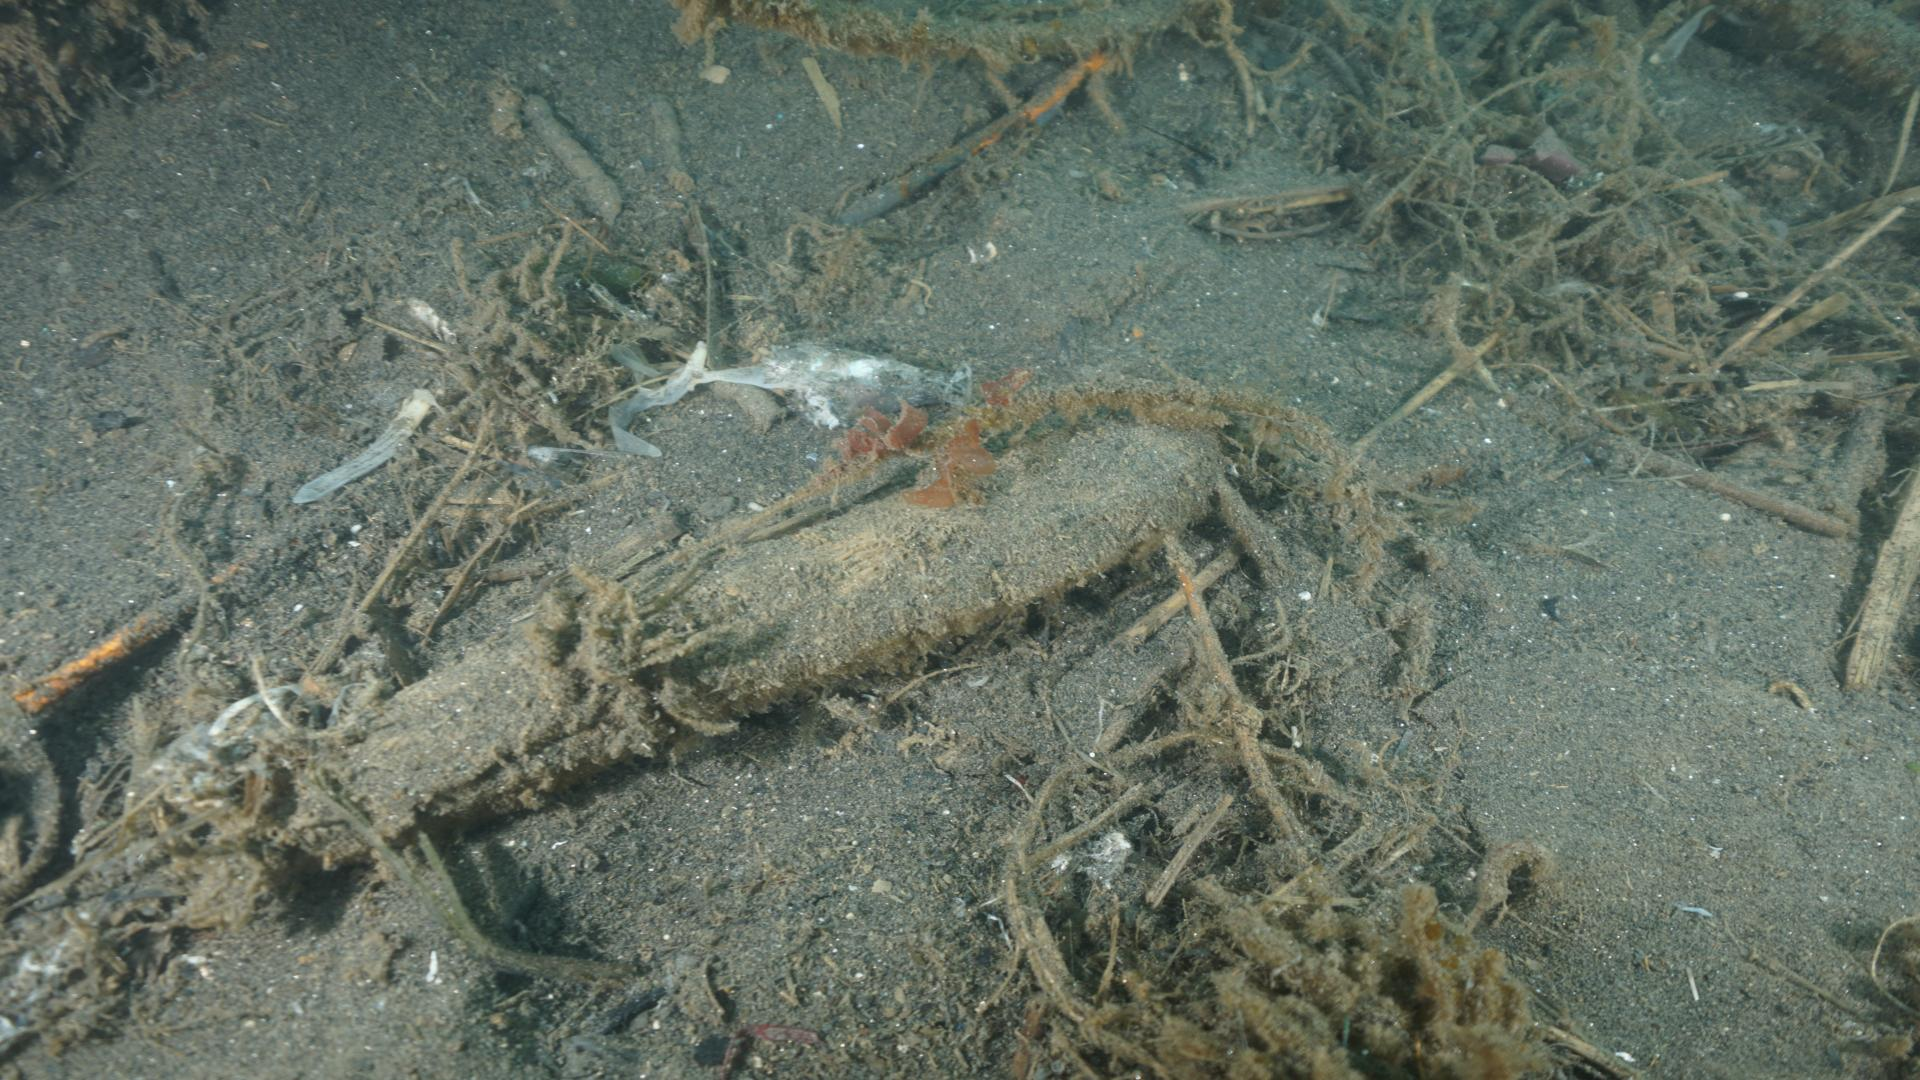wood: (280, 415, 1232, 877)
